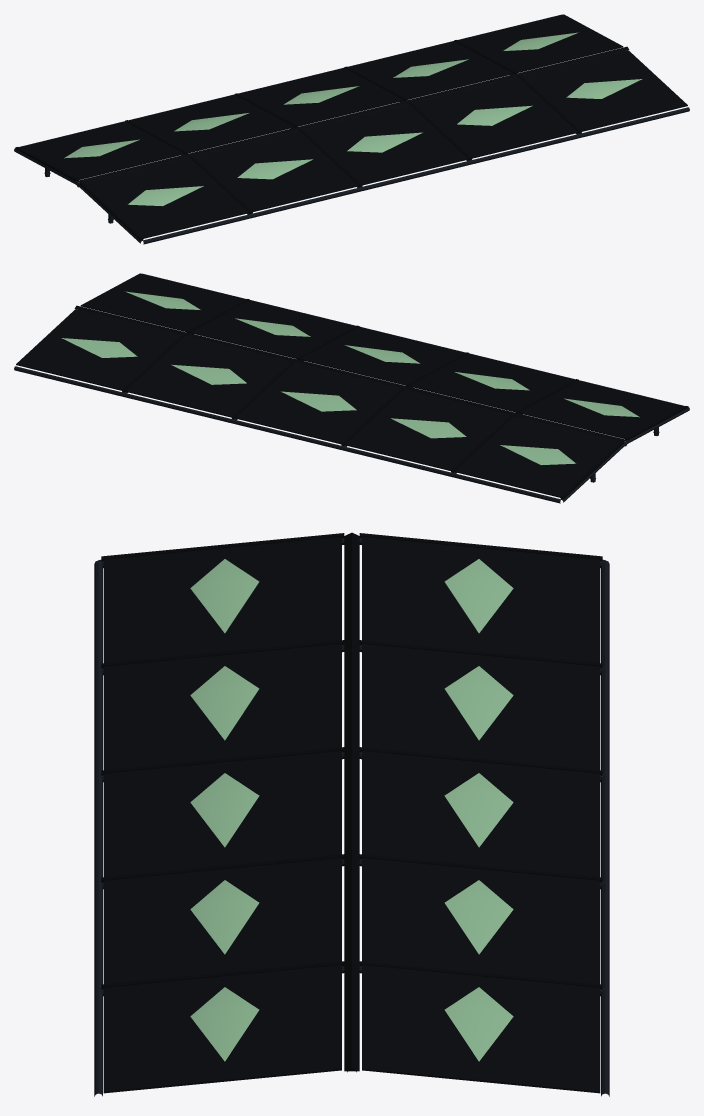
The picture shows the model from 3 angles, top to bottom: view 1: azimuth 30°, elevation 25°; view 2: azimuth 150°, elevation 25°; view 3: azimuth 270°, elevation 25°; orthographic projection. The views are drawn at different scales.
Visible parts, largest first — view 1: Crown_Slate_Panels, Leaf_Relief, Crown_Frame, Crown_Glazing_Caps, Ridge_Cap; view 2: Crown_Slate_Panels, Leaf_Relief, Crown_Frame, Crown_Glazing_Caps, Ridge_Cap; view 3: Crown_Slate_Panels, Leaf_Relief, Crown_Glazing_Caps, Crown_Frame, Ridge_Cap.
Boxes of the visible parts, box(x1,y1,x2,y2) form: Crown_Slate_Panels: box(19, 14, 687, 238); Leaf_Relief: box(64, 32, 642, 206); Crown_Frame: box(14, 14, 689, 244); Crown_Glazing_Caps: box(15, 40, 581, 240); Ridge_Cap: box(77, 46, 629, 182); Crown_Slate_Panels: box(16, 273, 684, 497); Leaf_Relief: box(61, 291, 639, 465); Crown_Frame: box(14, 273, 689, 503); Crown_Glazing_Caps: box(122, 299, 688, 499); Ridge_Cap: box(74, 305, 626, 441); Crown_Slate_Panels: box(103, 536, 600, 1093); Leaf_Relief: box(190, 559, 513, 1061); Crown_Glazing_Caps: box(101, 533, 602, 989); Crown_Frame: box(94, 538, 609, 1096); Ridge_Cap: box(344, 532, 359, 1071).
Bounding box in the file's own units: 20.08 × 0.659 × 8.14.
4 materials, 3 textured.
